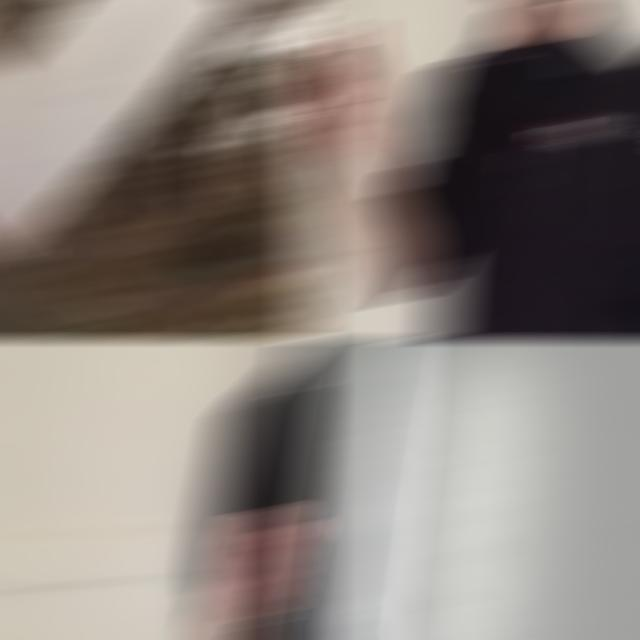Knife: (0, 2, 257, 252), (318, 341, 417, 638)
Knife_Handle: (298, 2, 386, 161), (215, 506, 308, 638)
